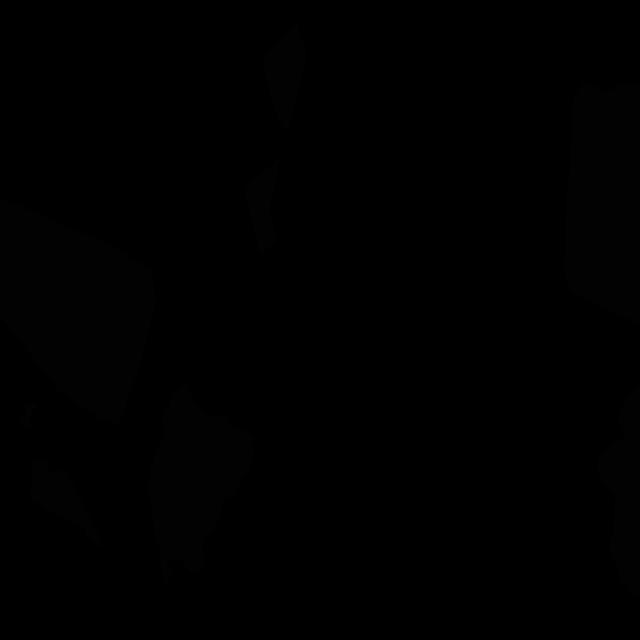cardboard: (0, 197, 156, 426), (148, 383, 254, 583), (564, 80, 640, 324), (597, 385, 640, 598), (30, 459, 106, 550), (263, 22, 307, 133), (244, 156, 281, 256), (21, 403, 38, 428)
